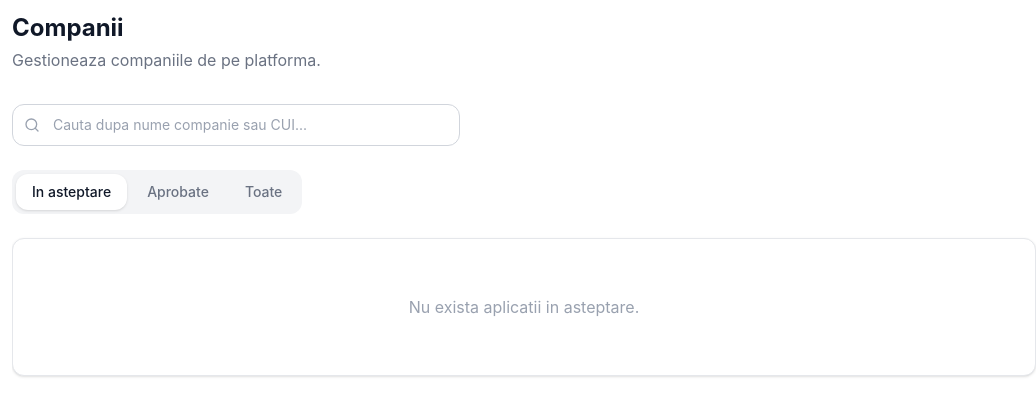
Test case: CompaniesPage › tab switching works
Click the button "Aprobate".
click(178, 192)  # box [131,174,225,210]
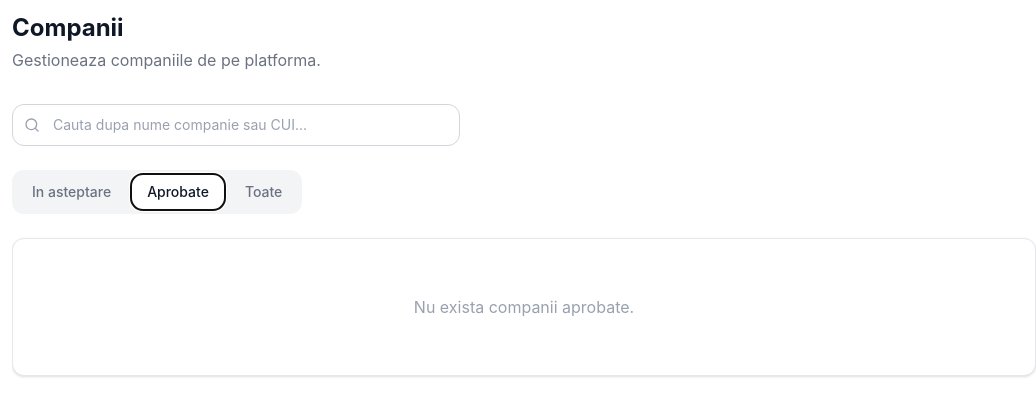
expect the text "Nu exista companii aprobate." is shown: met, box [414,297,634,317]
